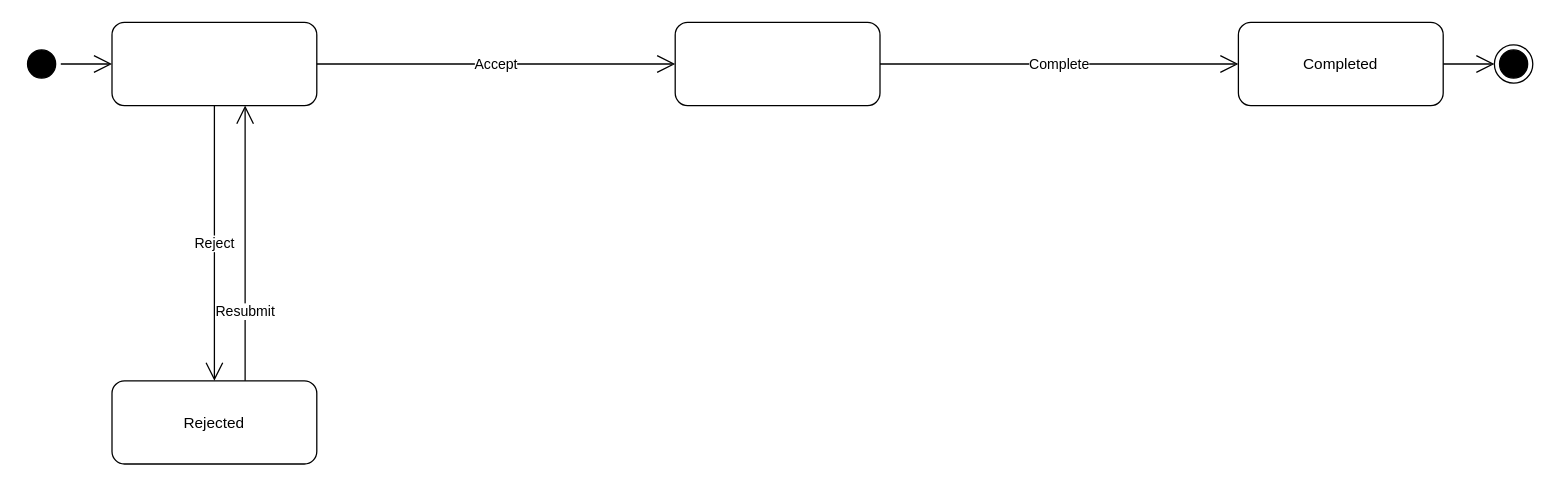
The diagram is 1555 pixels wide and 486 high, and some of its shapes have lost their labels. The shapes that lost their labels are listed below. From the top down, each one's box as (x1, y1, x2, y2) in pixels, then its label:
(111, 21, 317, 106): Pending
(674, 21, 880, 106): Accepted
